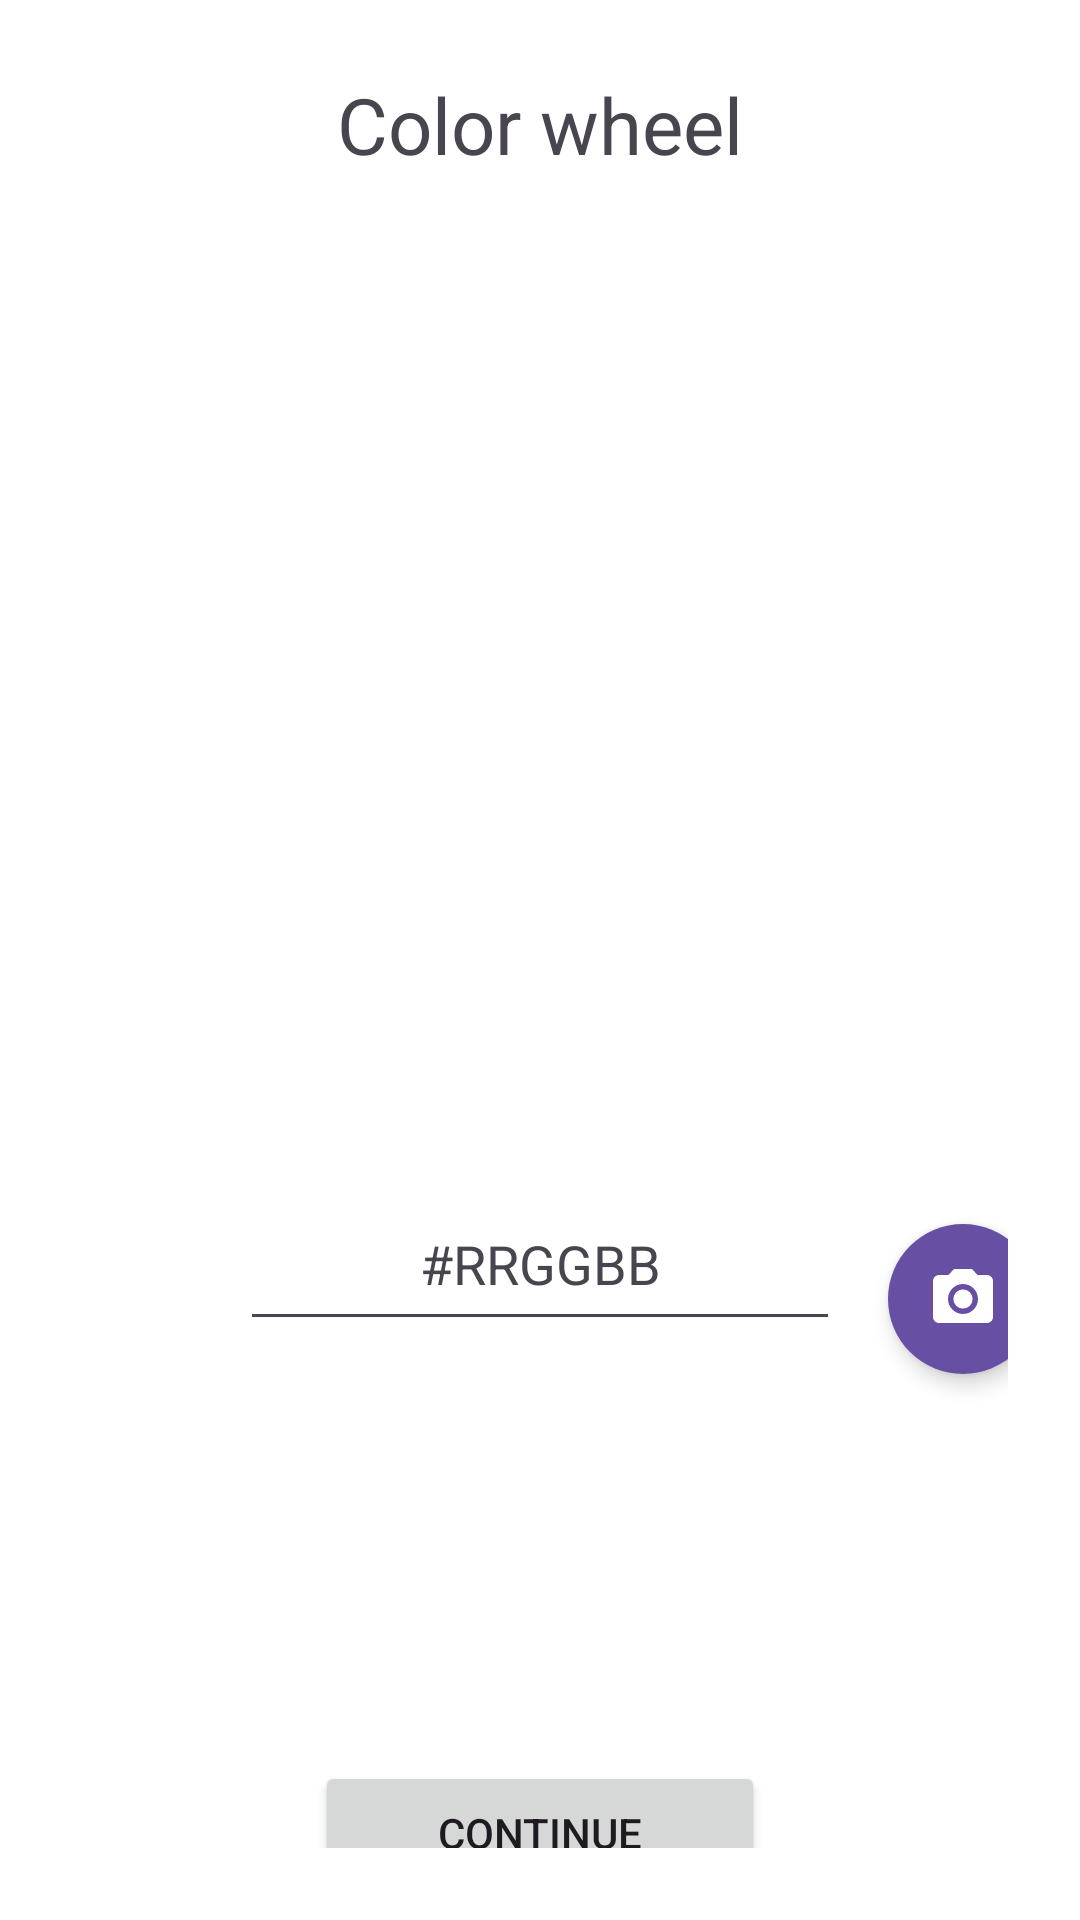

Screen size 1080 x 1920. Icon name, then its box in pixels as (x1, y1, x2, y2):
Scan a color using the camera: (888, 1224, 1008, 1374)
